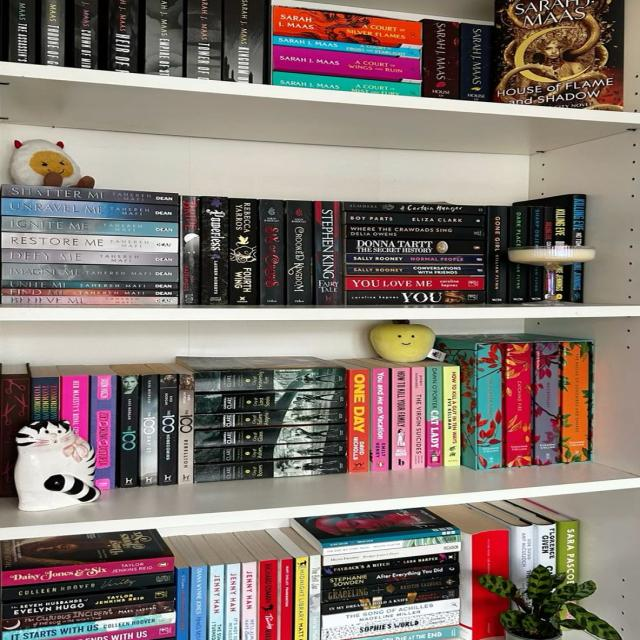book: (274, 6, 422, 49), (2, 586, 175, 619), (0, 600, 175, 631), (273, 46, 422, 82), (1, 571, 175, 601), (2, 556, 175, 586), (0, 197, 177, 223), (5, 614, 175, 640), (322, 611, 460, 640), (321, 599, 459, 628), (194, 456, 347, 482), (323, 574, 459, 603), (223, 0, 270, 83), (0, 215, 177, 237), (0, 370, 30, 497), (273, 71, 423, 96), (1, 184, 178, 205), (323, 588, 460, 615), (322, 563, 459, 590), (272, 35, 419, 59), (195, 425, 348, 448), (3, 232, 176, 252), (195, 390, 345, 413), (193, 441, 342, 464), (323, 552, 460, 576), (324, 542, 460, 566), (89, 376, 117, 490), (508, 343, 534, 465), (537, 342, 563, 464), (195, 408, 344, 429), (195, 369, 344, 390), (144, 0, 184, 77), (286, 199, 315, 305), (200, 196, 228, 304), (422, 20, 460, 99), (230, 198, 258, 305), (3, 263, 178, 280), (258, 199, 286, 305), (325, 534, 461, 555), (116, 374, 141, 488), (478, 344, 501, 466), (186, 0, 221, 80), (316, 201, 342, 304), (156, 374, 179, 485), (108, 0, 143, 72), (2, 250, 178, 264), (321, 529, 459, 546), (347, 238, 484, 255), (566, 343, 586, 459), (460, 23, 490, 99), (347, 369, 369, 471), (138, 375, 157, 486), (180, 195, 199, 304), (390, 368, 410, 470), (370, 368, 389, 471), (59, 376, 89, 441), (177, 373, 194, 485), (343, 276, 486, 289), (425, 366, 443, 467), (346, 291, 485, 304), (346, 224, 484, 237), (2, 296, 177, 306), (443, 366, 460, 466), (74, 0, 98, 69), (347, 263, 485, 275), (346, 213, 483, 225), (9, 0, 34, 63), (40, 0, 64, 65), (257, 561, 277, 639), (410, 368, 425, 468), (187, 567, 207, 639), (473, 535, 509, 575), (1, 280, 179, 288), (293, 557, 310, 639), (343, 203, 480, 213), (30, 377, 59, 421), (206, 565, 223, 639), (2, 289, 178, 296), (512, 527, 538, 574), (224, 563, 240, 639), (241, 563, 257, 639), (280, 560, 294, 640), (347, 255, 484, 263), (558, 522, 579, 574), (533, 525, 556, 571), (176, 568, 190, 639), (310, 556, 318, 640)
figurine: (14, 420, 99, 511)
plants: (478, 565, 621, 639)
